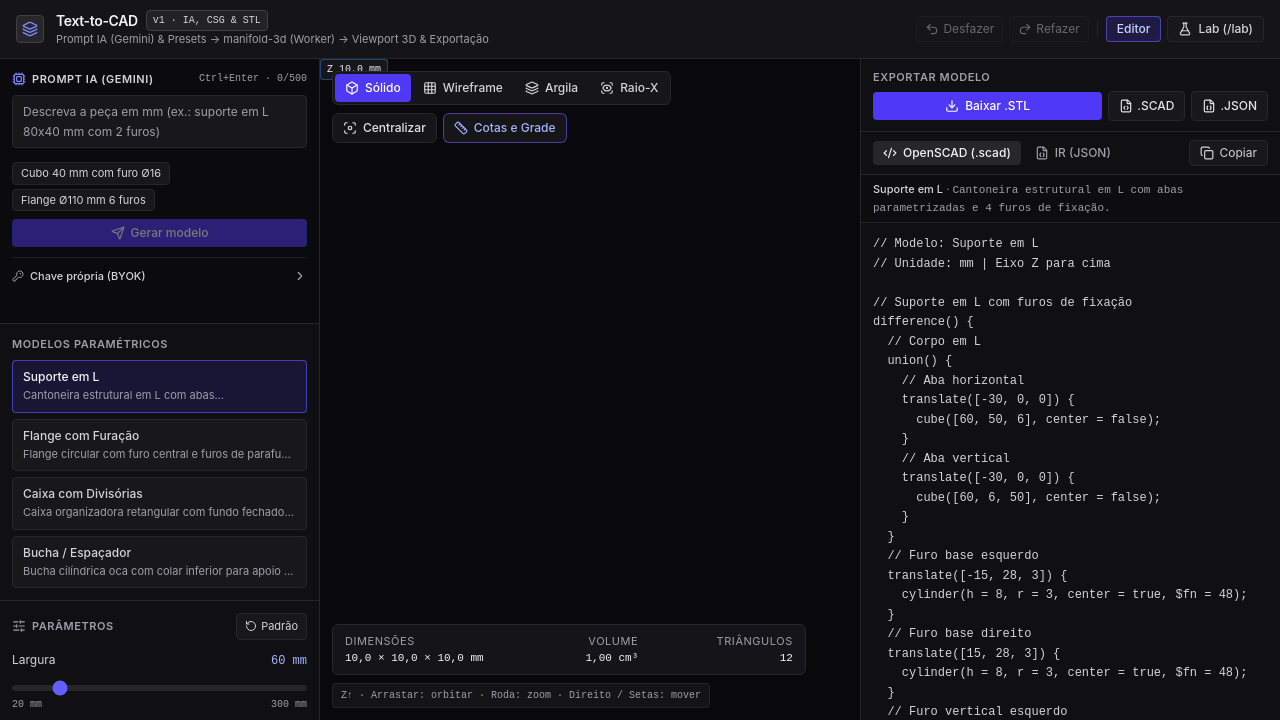
Test: Marco 5 (F8): Shell v1, Undo/Redo, Histórico, Abas Mobile e Cobertura › suporta Desfazer e Refazer por clique e atalhos Ctrl+Z / Ctrl+Shift+Z, ignorando campos editáveis
Later steps or results of the test are not shown.
Expected: the button with test id "undo-btn" is disabled, [916,16,1003,42]
Expected: the button with test id "redo-btn" is disabled, [1009,16,1089,42]
Step 1. Click the button with test id "preset-flange" → (160, 445), box [12,418,307,471]
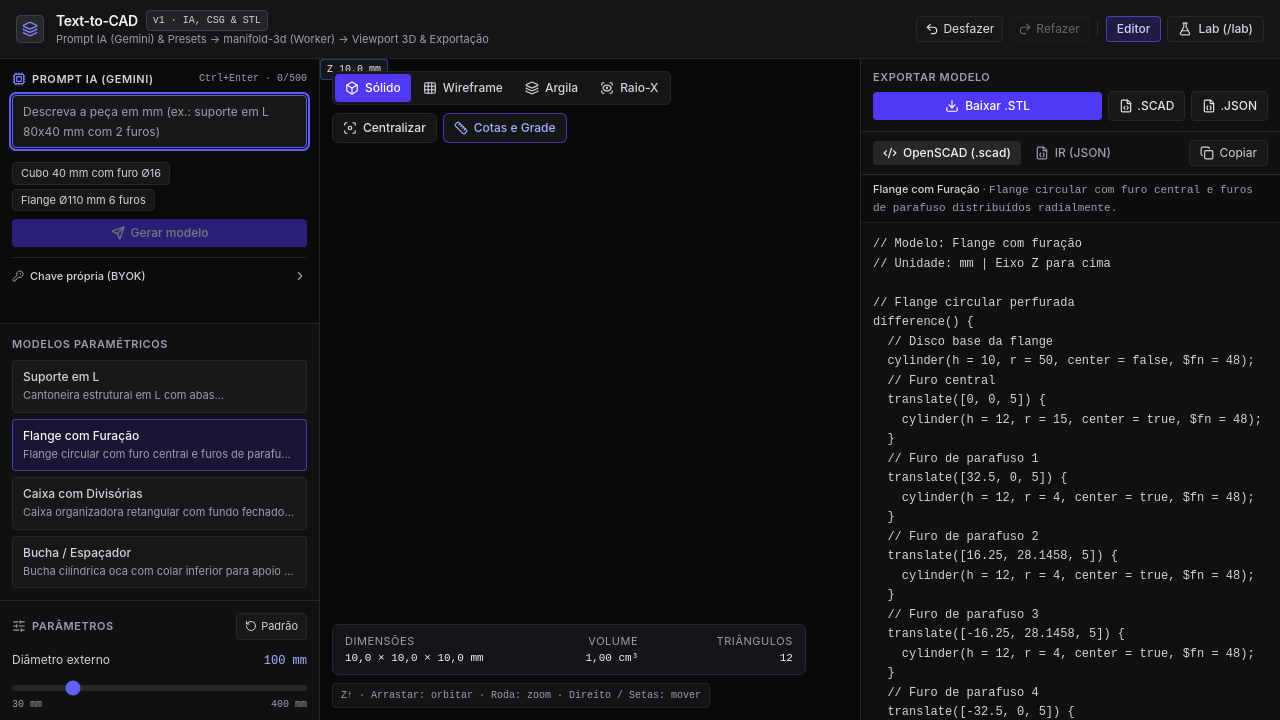
Result: the button with test id "undo-btn" is enabled at [916,16,1003,42]
Step 2. Press z in the text box with test id "ai-prompt-input", box [12,95,307,148]
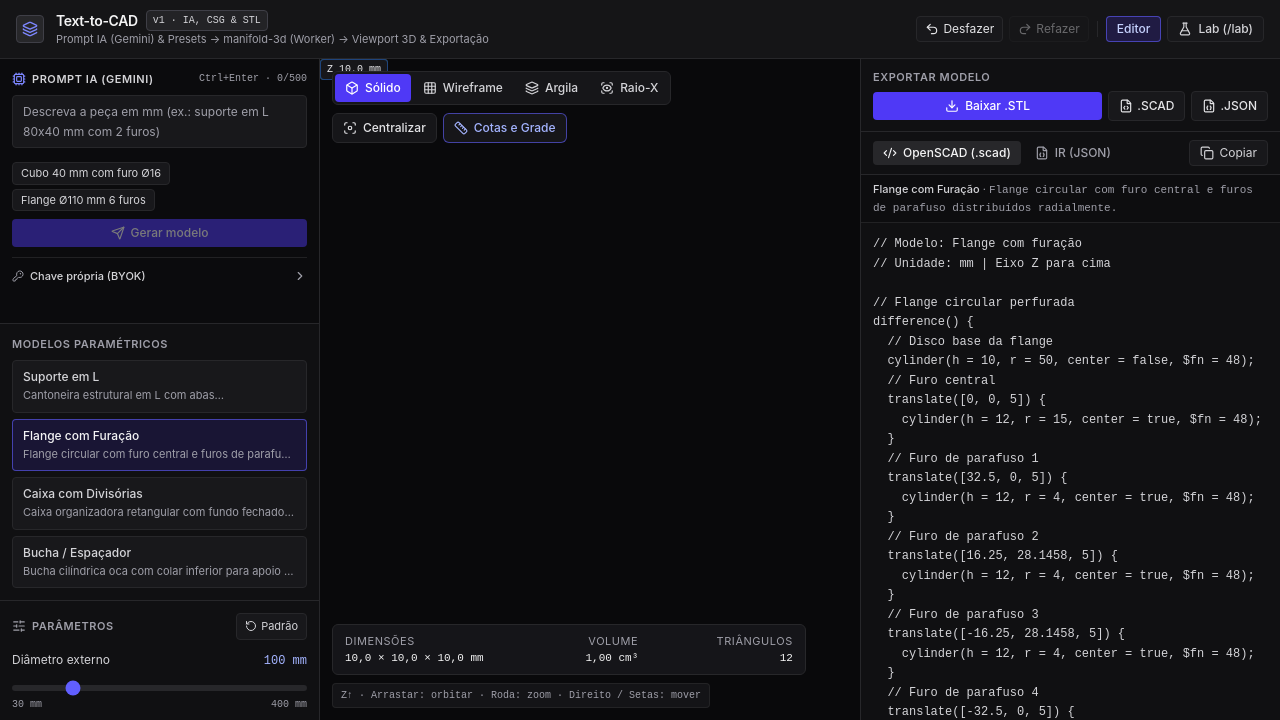
Result: the button with test id "preset-flange" is pressed at [12,418,307,471]
Step 3. Click the button with test id "undo-btn" → (960, 29), box [916,16,1003,42]
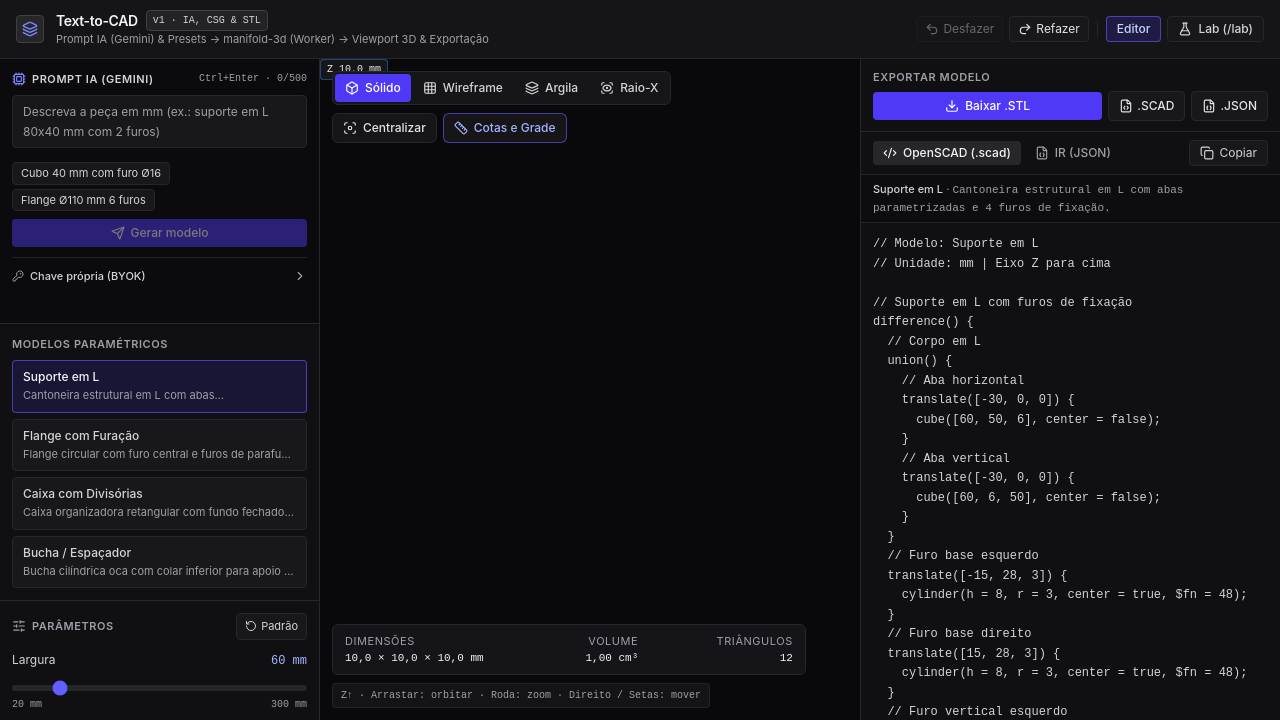
Step 4. Click the button with test id "redo-btn" → (1049, 29), box [1009,16,1089,42]
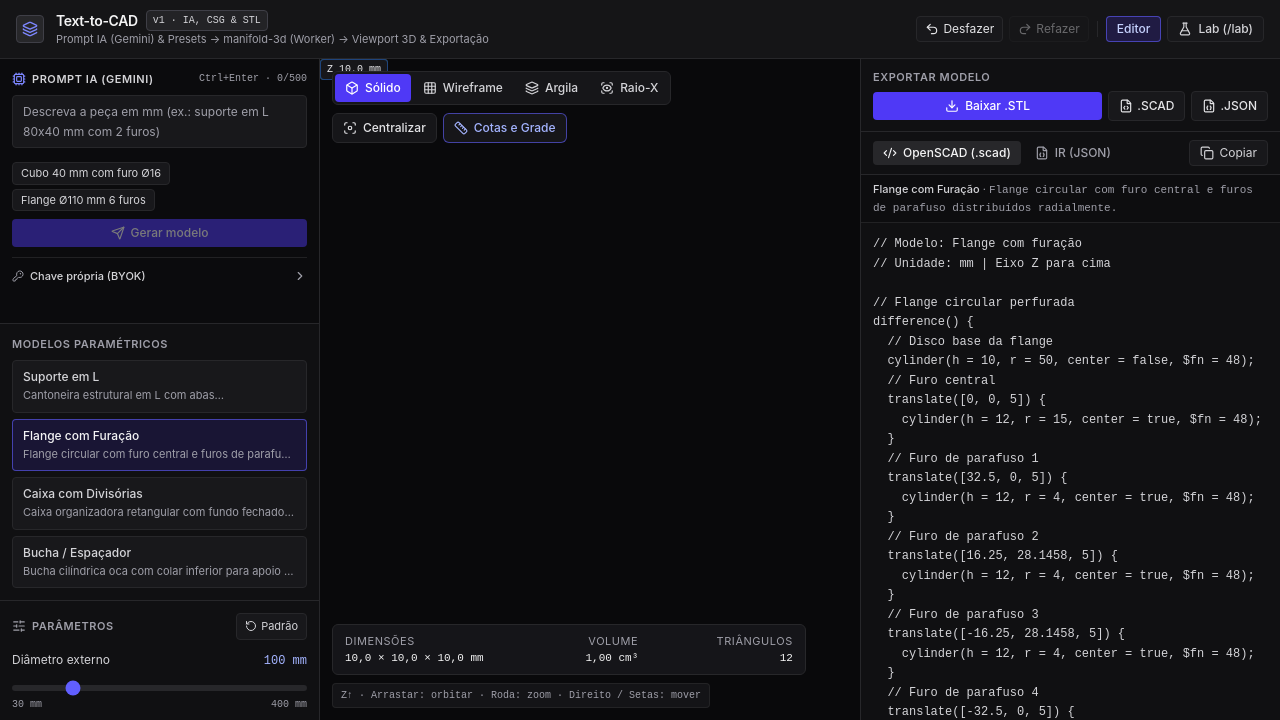
Result: the button with test id "preset-flange" is pressed at [12,418,307,471]
